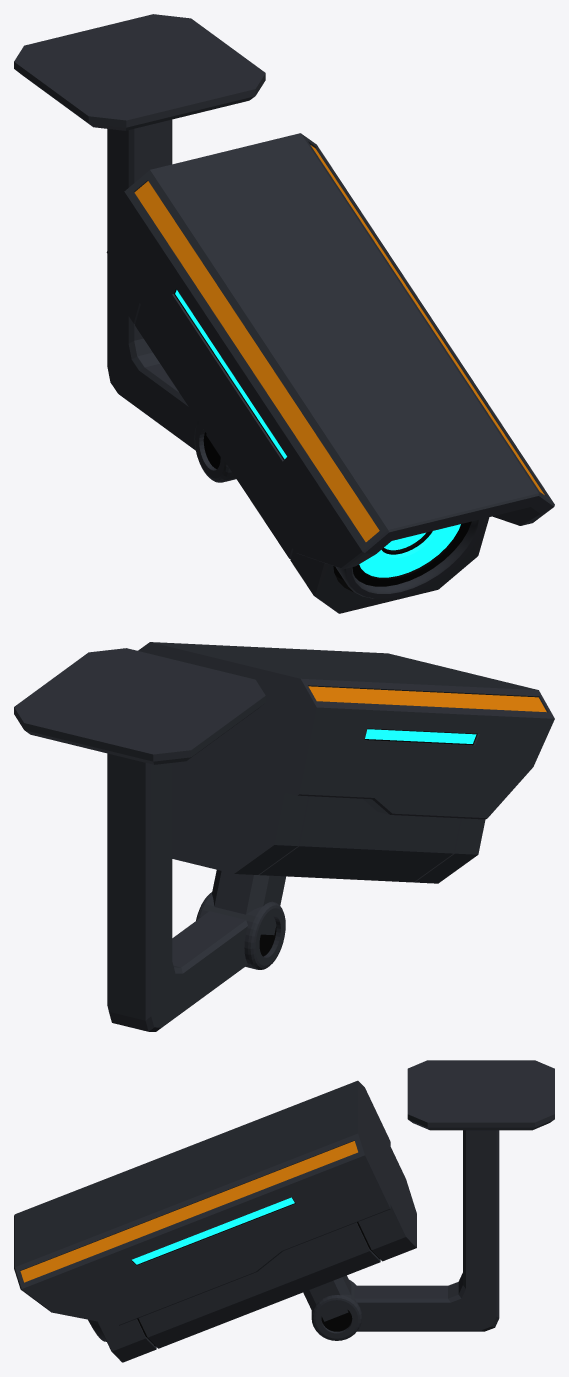
File: SM_Ceiling_Camera.fbx
3 views of the same model, one above another, from view 1: azimuth 30°, elevation 25°; view 2: azimuth 150°, elevation 25°; view 3: azimuth 270°, elevation 25° (orthographic). The views are drawn at different scales.
Parts seen in each view (by area): view 1: SM_Ceiling_Camera_Cam, SM_Ceiling_Camera_Base; view 2: SM_Ceiling_Camera_Cam, SM_Ceiling_Camera_Base; view 3: SM_Ceiling_Camera_Cam, SM_Ceiling_Camera_Base.
Boxes of the visible parts, left/top/right/bottom form: SM_Ceiling_Camera_Cam: left=106, top=133, right=554, bottom=613; SM_Ceiling_Camera_Base: left=14, top=14, right=265, bottom=482; SM_Ceiling_Camera_Cam: left=138, top=642, right=554, bottom=935; SM_Ceiling_Camera_Base: left=14, top=648, right=285, bottom=1031; SM_Ceiling_Camera_Cam: left=14, top=1080, right=416, bottom=1362; SM_Ceiling_Camera_Base: left=311, top=1060, right=554, bottom=1340.
Size of the model in its own units: 16.74 by 29.28 by 56.54.
